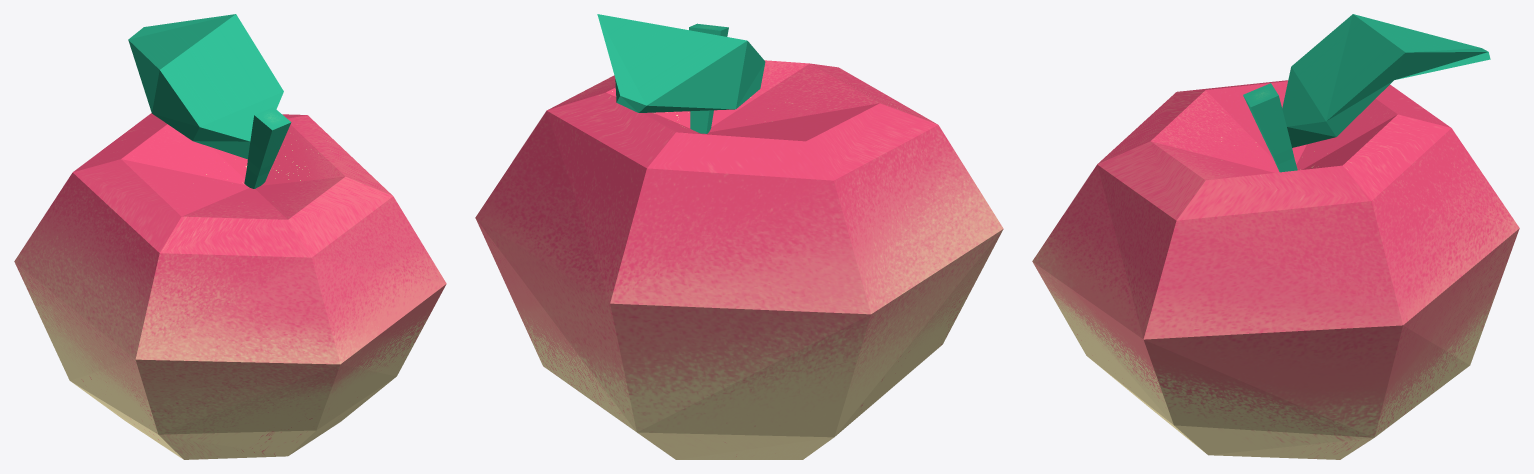
Rendered from apple.obj.
The picture shows the model from 3 angles, left to right: view 1: azimuth 30°, elevation 25°; view 2: azimuth 150°, elevation 25°; view 3: azimuth 270°, elevation 25°; orthographic projection. The views are drawn at different scales.
Parts seen in each view (by area): view 1: apple_Sphere.001; view 2: apple_Sphere.001; view 3: apple_Sphere.001.
Part boxes in pixels (left/top/right/bottom): apple_Sphere.001: left=14, top=14, right=446, bottom=459; apple_Sphere.001: left=475, top=14, right=1003, bottom=459; apple_Sphere.001: left=1032, top=14, right=1519, bottom=459.
Size of the model in its own units: 0.7437 by 0.7735 by 0.8579.
